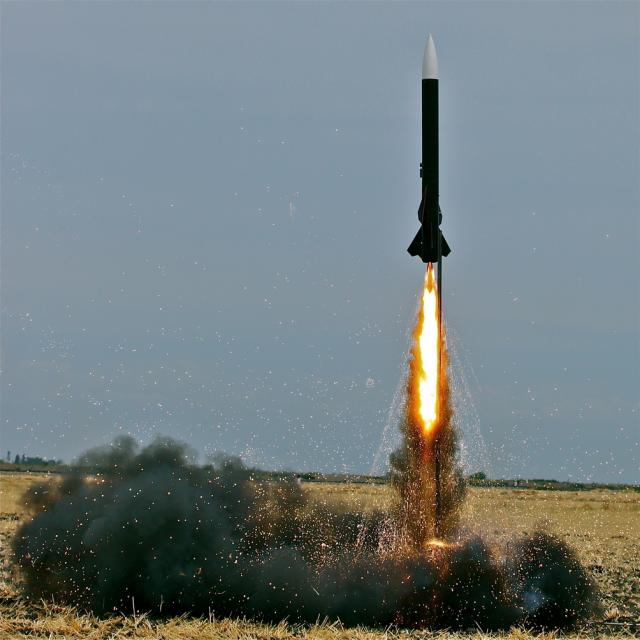rocket: (413, 25, 449, 412)
